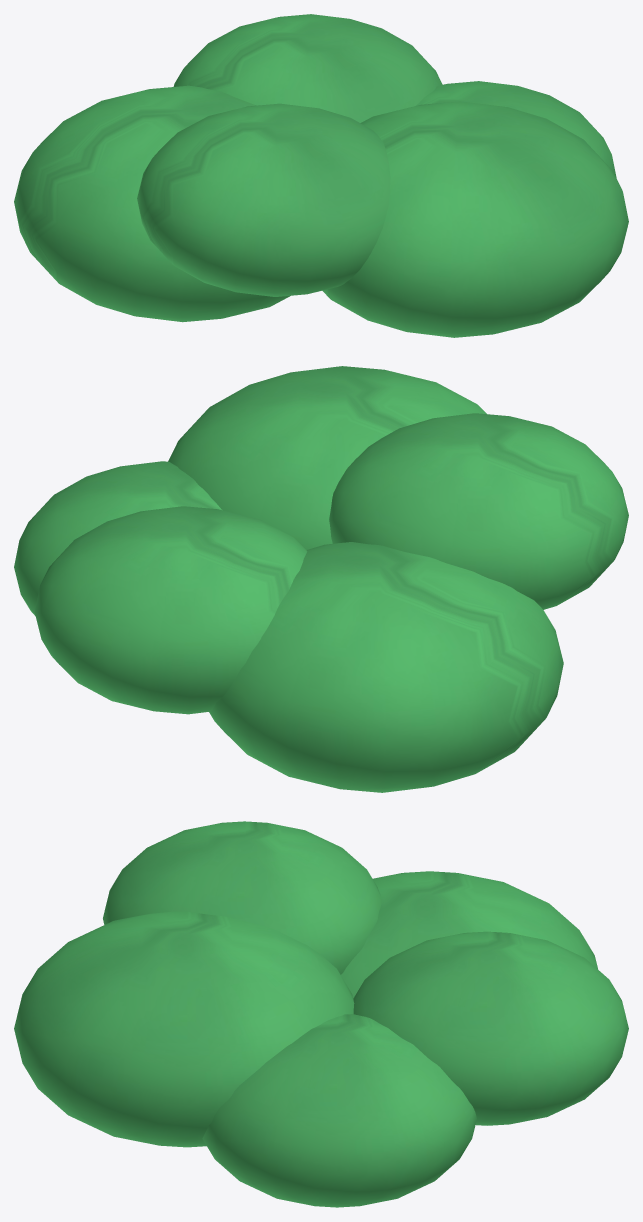
Rendered from sf_cloudbank.glb.
3 views of the same model, one above another, from view 1: azimuth 30°, elevation 25°; view 2: azimuth 150°, elevation 25°; view 3: azimuth 270°, elevation 25° (orthographic). The views are drawn at different scales.
Visible parts, largest first — view 1: Base; view 2: Base; view 3: Base.
Part boxes in pixels (box(x1,y1,x2,y2)): Base: box(14, 14, 628, 337); Base: box(14, 366, 628, 792); Base: box(14, 821, 628, 1207).
Bounding box in the file's own units: 0.7618 × 0.34 × 0.7804.
1 material, 1 textured.
